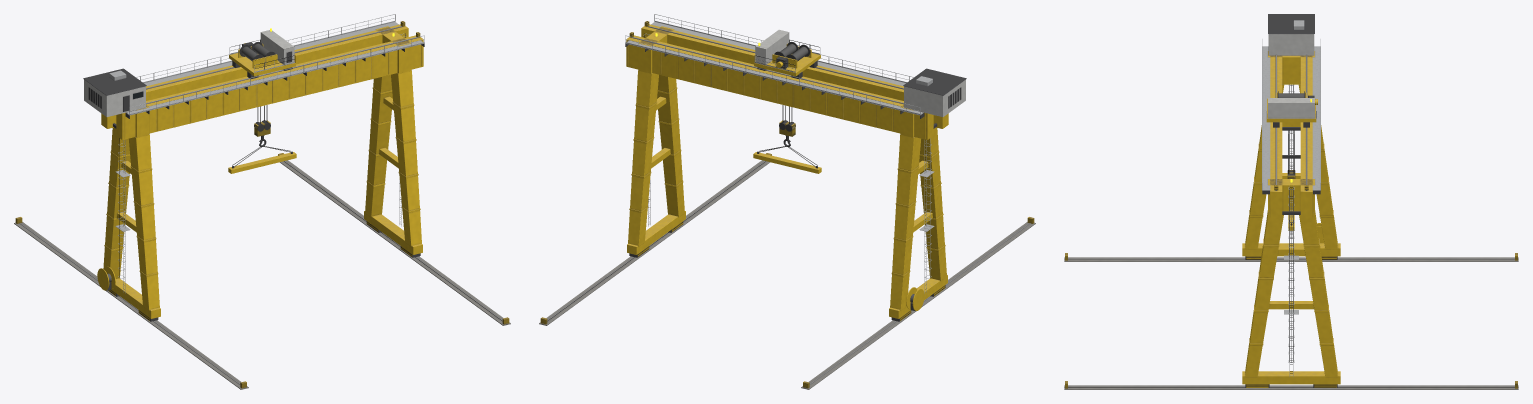
The model's file is GoliathCrane.fbx.
3 views of the same model, side by side, from view 1: azimuth 30°, elevation 25°; view 2: azimuth 150°, elevation 25°; view 3: azimuth 270°, elevation 25° (orthographic).
Parts seen in each view (by area): view 1: Girder_LOD0, Leg_W_LOD0, Leg_E_LOD0, Trolley_LOD0, Rail_W_LOD0, Rail_E_LOD0, Head_LOD0; view 2: Girder_LOD0, Leg_W_LOD0, Leg_E_LOD0, Trolley_LOD0, Rail_W_LOD0, Rail_E_LOD0, Head_LOD0; view 3: Leg_E_LOD0, Leg_W_LOD0, Girder_LOD0, Rail_E_LOD0, Rail_W_LOD0, Trolley_LOD0.
Part boxes in pixels (bbox=[...]): Girder_LOD0: bbox=[101, 14, 424, 139]; Leg_W_LOD0: bbox=[83, 68, 160, 321]; Leg_E_LOD0: bbox=[364, 26, 422, 257]; Trolley_LOD0: bbox=[229, 28, 295, 78]; Rail_W_LOD0: bbox=[14, 217, 248, 389]; Rail_E_LOD0: bbox=[278, 153, 510, 325]; Head_LOD0: bbox=[228, 120, 296, 173]; Girder_LOD0: bbox=[625, 14, 948, 139]; Leg_W_LOD0: bbox=[889, 68, 966, 321]; Leg_E_LOD0: bbox=[627, 26, 685, 257]; Trolley_LOD0: bbox=[754, 29, 820, 78]; Rail_W_LOD0: bbox=[801, 217, 1035, 389]; Rail_E_LOD0: bbox=[539, 153, 771, 325]; Head_LOD0: bbox=[753, 120, 821, 173]; Leg_E_LOD0: bbox=[1242, 179, 1340, 387]; Leg_W_LOD0: bbox=[1242, 14, 1340, 259]; Girder_LOD0: bbox=[1262, 39, 1320, 219]; Rail_E_LOD0: bbox=[1064, 381, 1518, 389]; Rail_W_LOD0: bbox=[1064, 253, 1518, 261]; Trolley_LOD0: bbox=[1266, 91, 1317, 127].
Size of what is drawn, in the model's own units: 48.6 by 34.07 by 60.
1 material, 1 textured.
